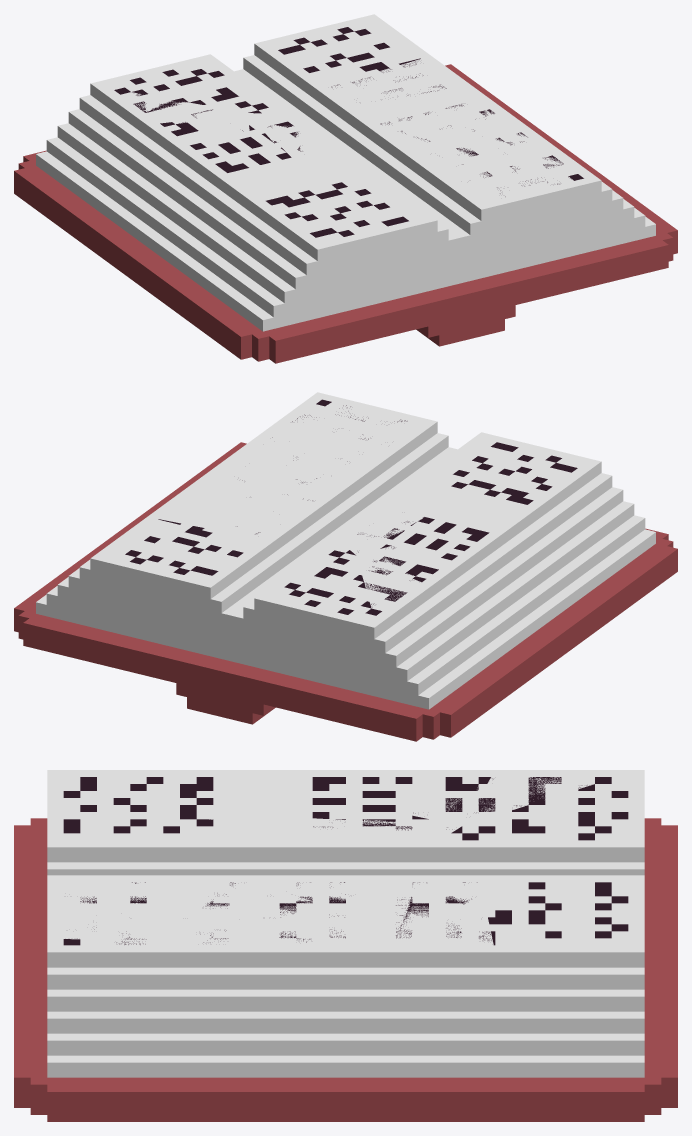
Rendered from Book.fbx.
3 renders of one model, top to bottom at view 1: azimuth 30°, elevation 25°; view 2: azimuth 150°, elevation 25°; view 3: azimuth 270°, elevation 25°, orthographic. The views are drawn at different scales.
Parts seen in each view (by area): view 1: Book; view 2: Book; view 3: Book.
Part boxes in pixels (x1,y1,x2,y2): Book: (14, 14, 677, 363); Book: (14, 392, 677, 741); Book: (14, 770, 677, 1121).
Size of the model in its own units: 250 by 62.5 by 250.
